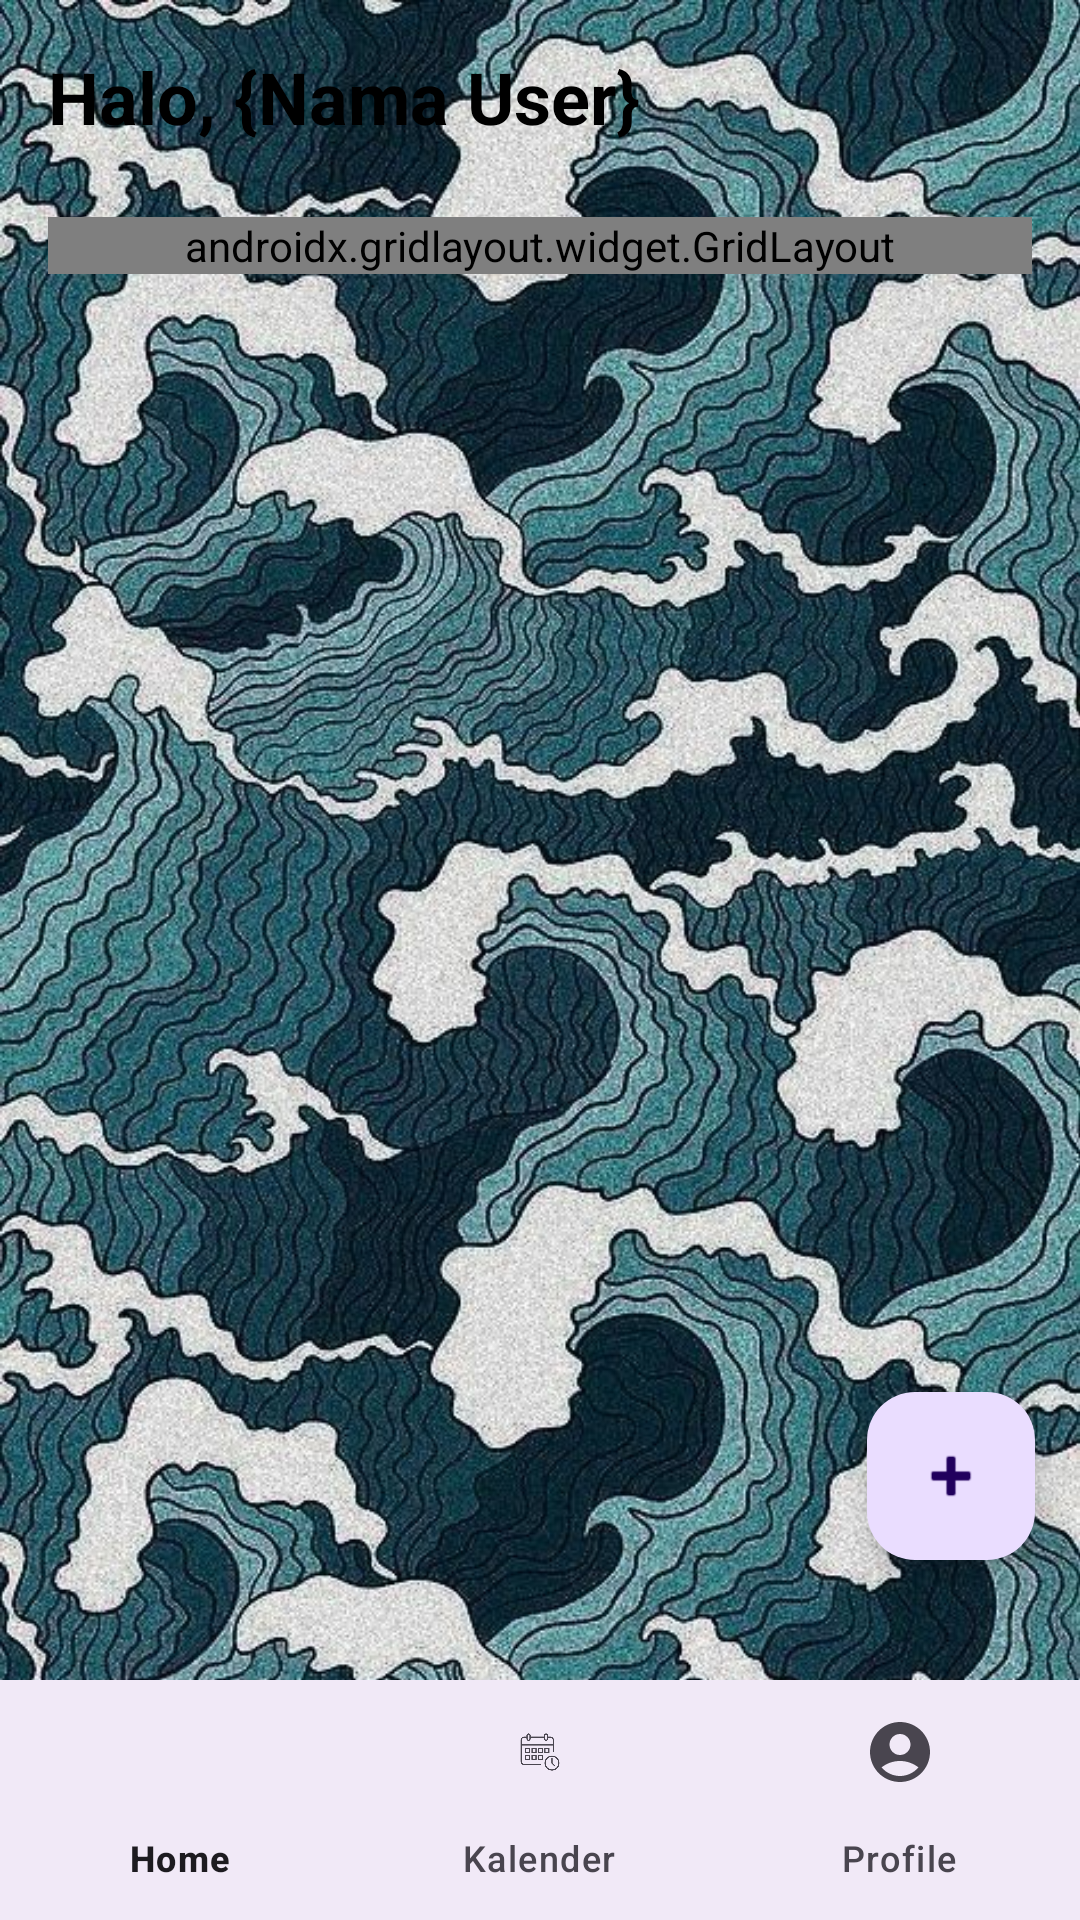

Where to tap for icons on this 1080px x 1920px app screen, as [x,y]:
Tambah Tugas: [951,1476]
